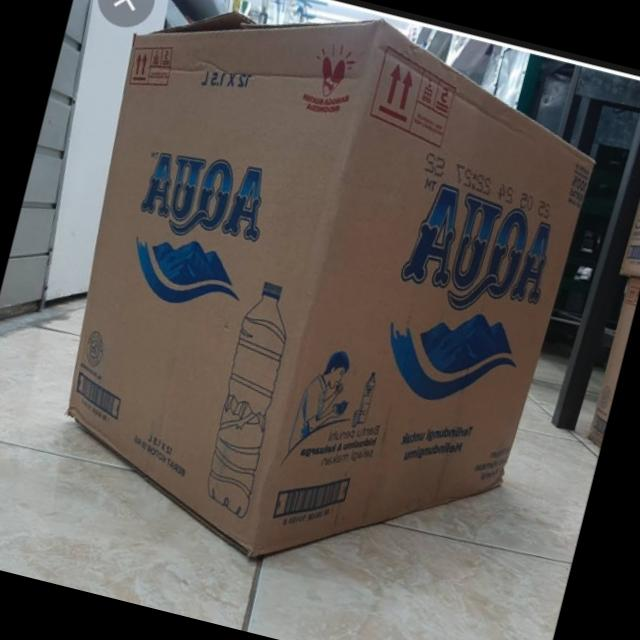Kardus: (15, 0, 618, 618)
